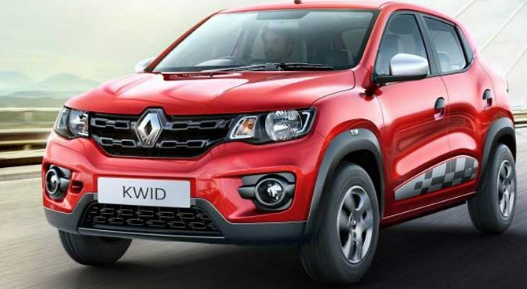car: (37, 1, 519, 286)
